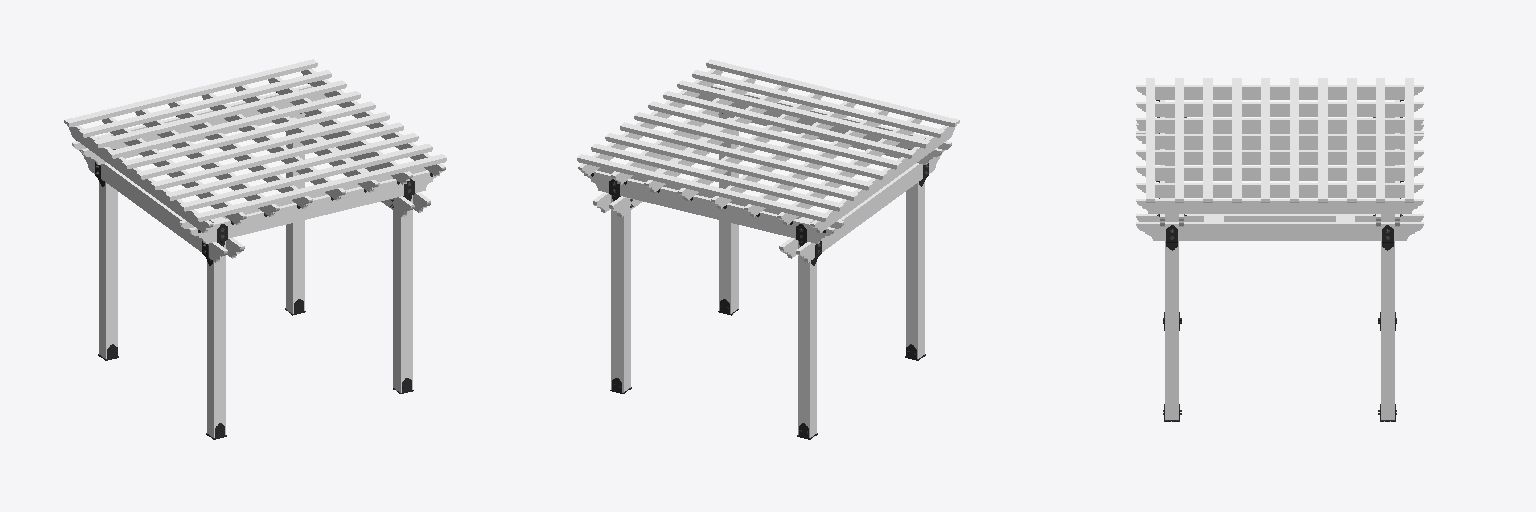
Rendered from santa-monica-10x10-classic.obj.
3 views of the same model, side by side, from view 1: azimuth 30°, elevation 25°; view 2: azimuth 150°, elevation 25°; view 3: azimuth 270°, elevation 25° (orthographic).
Visible parts, largest first — view 1: Mesh147 Component_19_4 Group36 Group1 Model, Mesh159 Component_95_1 Group1 Model, Mesh162 Component_95_2 Group1 Model, Mesh169 Component_95_3 Group1 Model, Mesh53 Component_6_2 Group14 Group1 Model, Mesh151 Component_4_3 Group1 Model, Mesh152 Component_4_4 Group1 Model, Mesh153 Component_4_5 Group1 Model, Mesh154 Component_4_6 Group1 Model, Mesh158 Component_4_10 Group1 Model, Mesh149 Component_4_1 Group1 Model, Mesh156 Component_4_8 Group1 Model (+13 smaller); view 2: Mesh60 Component_19_3 Group17 Group1 Model, Mesh176 Component_95_4 Group1 Model, Mesh169 Component_95_3 Group1 Model, Mesh162 Component_95_2 Group1 Model, Mesh53 Component_6_2 Group14 Group1 Model, Mesh154 Component_4_6 Group1 Model, Mesh149 Component_4_1 Group1 Model, Mesh150 Component_4_2 Group1 Model, Mesh151 Component_4_3 Group1 Model, Mesh155 Component_4_7 Group1 Model, Mesh157 Component_4_9 Group1 Model, Mesh152 Component_4_4 Group1 Model (+13 smaller); view 3: Mesh15 Component_6_1 Group4 Group1 Model, Mesh37 Component_10_2 Group10 Group1 Model, Mesh42 Component_10_3 Group11 Group1 Model, Mesh59 Component_10_6 Group16 Group1 Model, Mesh52 Component_10_5 Group13 Group1 Model, Mesh47 Component_10_4 Group12 Group1 Model, Mesh82 Component_10_7 Group20 Group1 Model, Mesh32 Component_10_1 Group9 Group1 Model, Mesh87 Component_10_8 Group21 Group1 Model, Mesh176 Component_95_4 Group1 Model, Mesh159 Component_95_1 Group1 Model, Mesh121 Component_6_3 Group30 Group1 Model (+10 smaller).
Boxes of the visible parts, <box> form: Mesh147 Component_19_4 Group36 Group1 Model: <box>189,170,436,243</box>; Mesh159 Component_95_1 Group1 Model: <box>393,171,412,392</box>; Mesh162 Component_95_2 Group1 Model: <box>207,217,225,437</box>; Mesh169 Component_95_3 Group1 Model: <box>99,136,117,358</box>; Mesh53 Component_6_2 Group14 Group1 Model: <box>81,152,227,262</box>; Mesh151 Component_4_3 Group1 Model: <box>136,112,389,179</box>; Mesh152 Component_4_4 Group1 Model: <box>107,91,360,158</box>; Mesh153 Component_4_5 Group1 Model: <box>179,144,432,211</box>; Mesh154 Component_4_6 Group1 Model: <box>122,101,375,168</box>; Mesh158 Component_4_10 Group1 Model: <box>165,133,418,200</box>; Mesh149 Component_4_1 Group1 Model: <box>93,80,346,147</box>; Mesh156 Component_4_8 Group1 Model: <box>64,59,317,126</box>; Mesh60 Component_19_3 Group17 Group1 Model: <box>587,170,834,243</box>; Mesh176 Component_95_4 Group1 Model: <box>611,171,630,392</box>; Mesh169 Component_95_3 Group1 Model: <box>798,217,816,437</box>; Mesh162 Component_95_2 Group1 Model: <box>906,136,924,358</box>; Mesh53 Component_6_2 Group14 Group1 Model: <box>796,152,942,262</box>; Mesh154 Component_4_6 Group1 Model: <box>634,112,887,179</box>; Mesh149 Component_4_1 Group1 Model: <box>605,133,858,200</box>; Mesh150 Component_4_2 Group1 Model: <box>663,91,916,158</box>; Mesh151 Component_4_3 Group1 Model: <box>648,101,901,169</box>; Mesh155 Component_4_7 Group1 Model: <box>706,59,959,126</box>; Mesh157 Component_4_9 Group1 Model: <box>591,144,844,211</box>; Mesh152 Component_4_4 Group1 Model: <box>620,122,872,190</box>; Mesh15 Component_6_1 Group4 Group1 Model: <box>1136,222,1423,240</box>; Mesh37 Component_10_2 Group10 Group1 Model: <box>1136,199,1423,213</box>; Mesh42 Component_10_3 Group11 Group1 Model: <box>1136,166,1423,180</box>; Mesh59 Component_10_6 Group16 Group1 Model: <box>1136,85,1423,99</box>; Mesh52 Component_10_5 Group13 Group1 Model: <box>1136,150,1423,164</box>; Mesh47 Component_10_4 Group12 Group1 Model: <box>1136,134,1423,148</box>; Mesh82 Component_10_7 Group20 Group1 Model: <box>1136,118,1423,132</box>; Mesh32 Component_10_1 Group9 Group1 Model: <box>1136,183,1423,197</box>; Mesh87 Component_10_8 Group21 Group1 Model: <box>1136,102,1423,116</box>; Mesh176 Component_95_4 Group1 Model: <box>1381,214,1394,421</box>; Mesh159 Component_95_1 Group1 Model: <box>1165,214,1178,421</box>; Mesh121 Component_6_3 Group30 Group1 Model: <box>1136,214,1423,221</box>.
Bounding box in the file's own units: 120 × 108 × 120.